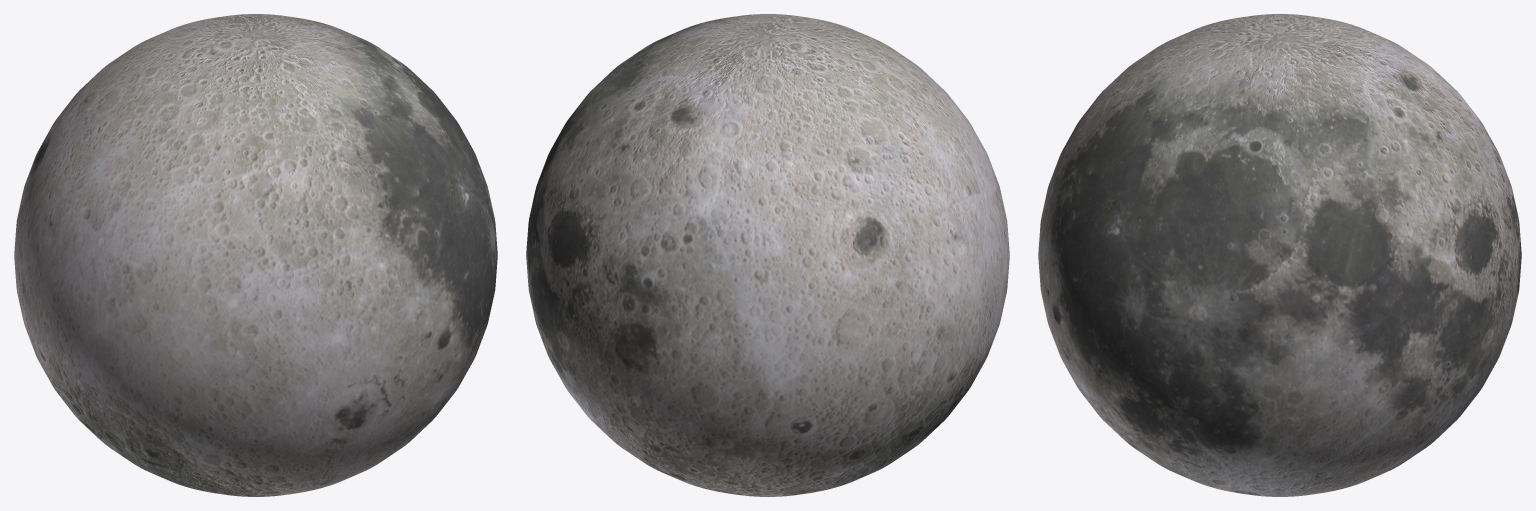
The model's file is moon.glb.
3 views of the same model, side by side, from view 1: azimuth 30°, elevation 25°; view 2: azimuth 150°, elevation 25°; view 3: azimuth 270°, elevation 25° (orthographic).
Visible parts, largest first — view 1: Sphere; view 2: Sphere; view 3: Sphere.
Part boxes in pixels (x1,y1,x2,y2): Sphere: (14, 14, 497, 496); Sphere: (526, 14, 1009, 496); Sphere: (1038, 14, 1521, 496).
Size of the model in its own units: 200 by 200 by 200.
Materials: 1 (1 with a texture image).
